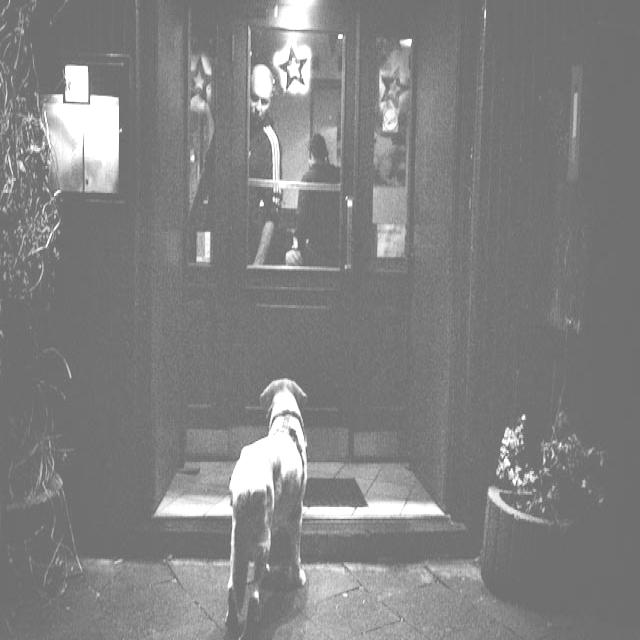Dog: (163, 378, 362, 636)
